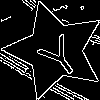Y: (30, 25, 86, 82)
